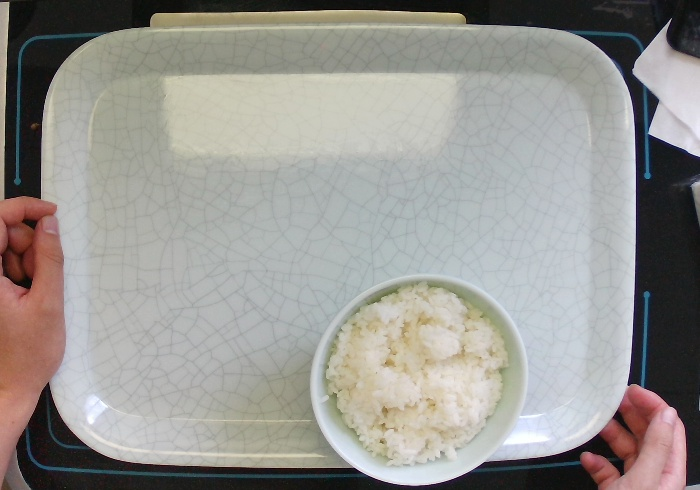JYsf-Fan_Wan: (308, 271, 530, 486)
